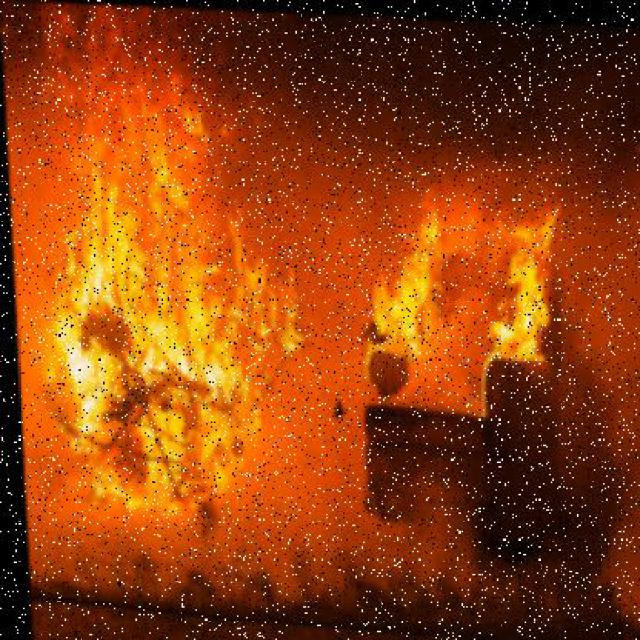fire: (4, 49, 327, 521)
